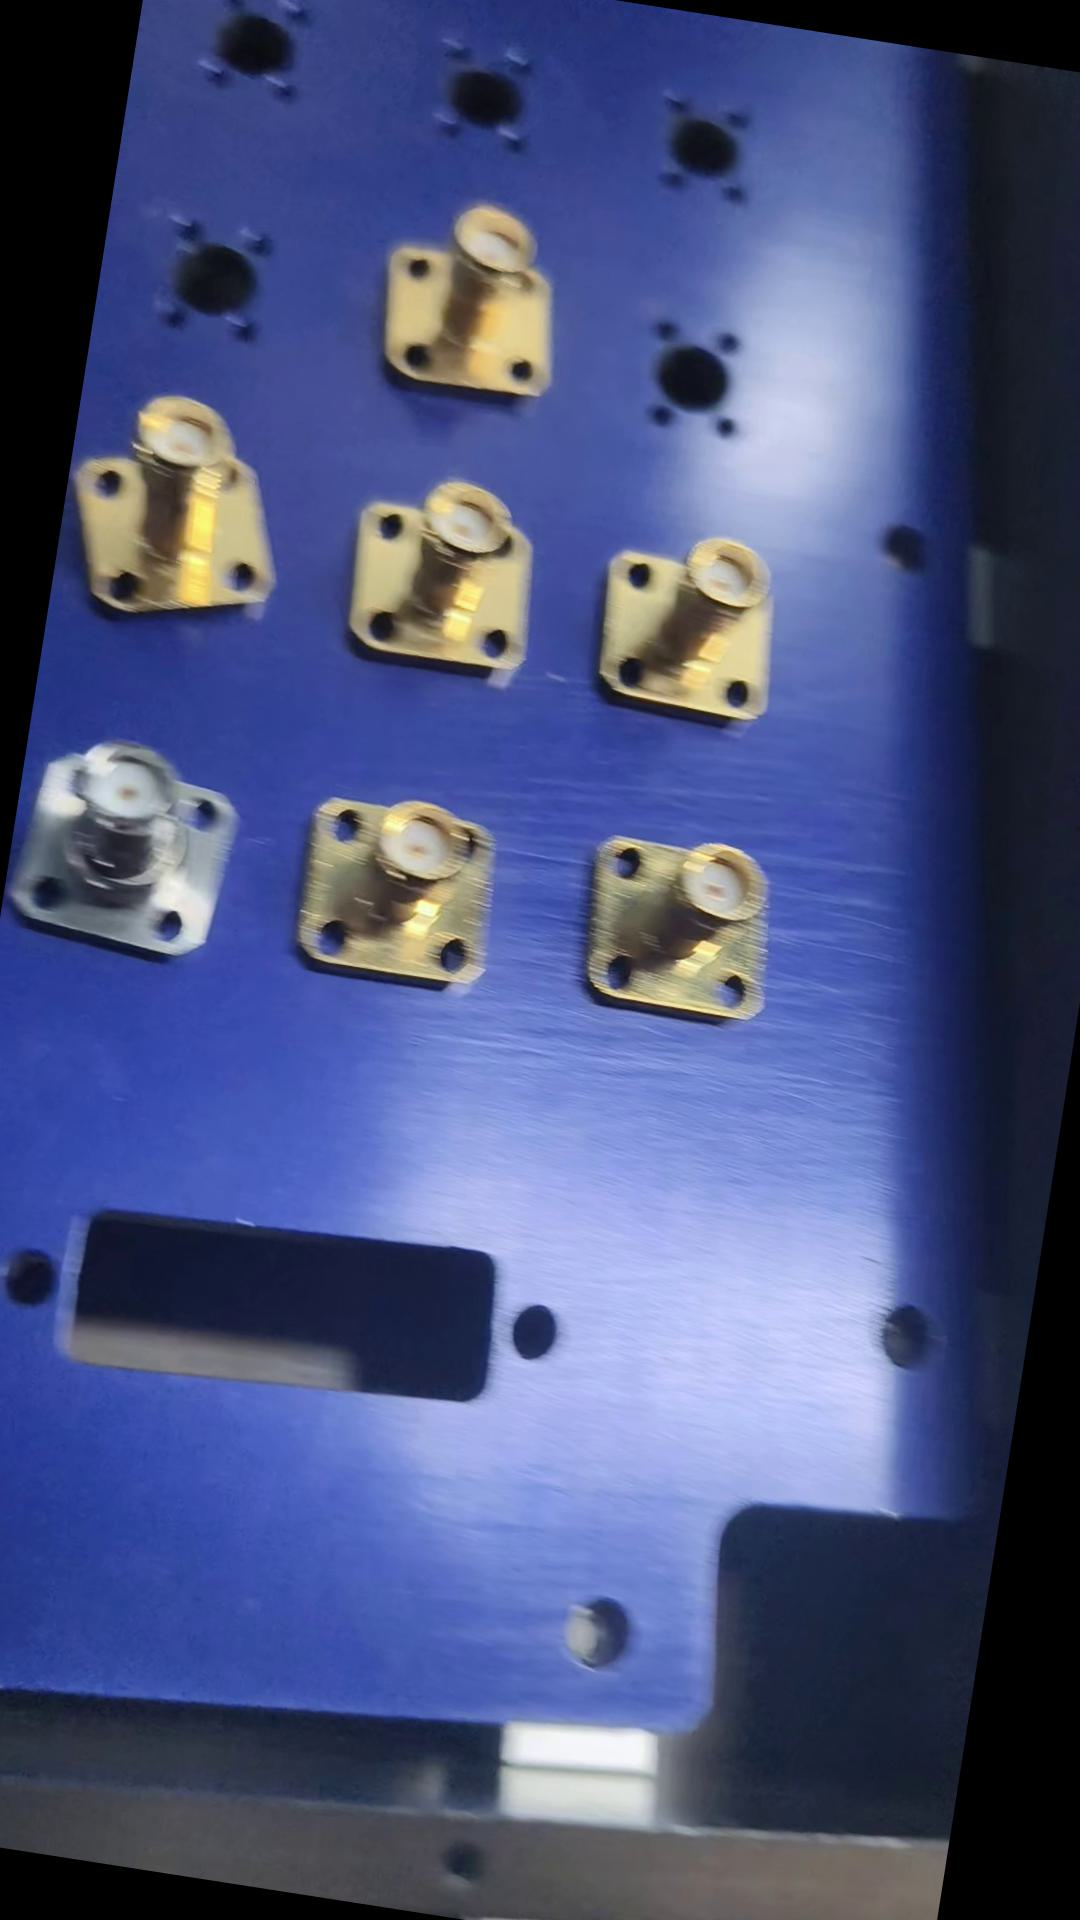SMA: (44, 380, 294, 640), (0, 728, 249, 975), (278, 782, 512, 1001), (334, 460, 555, 686), (353, 186, 568, 411), (566, 824, 790, 1036), (583, 520, 800, 729)
